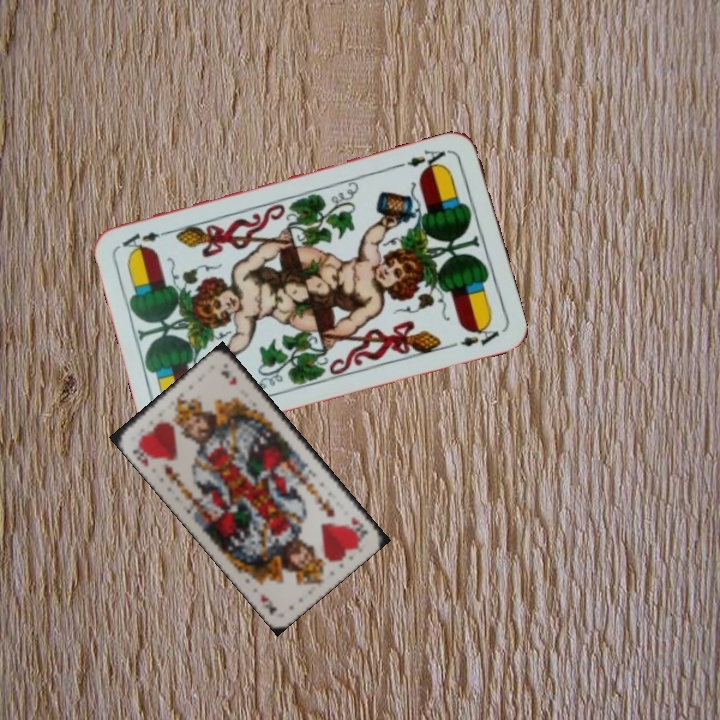EA: (395, 145, 453, 175)
HK: (128, 436, 152, 468), (346, 514, 371, 540)
